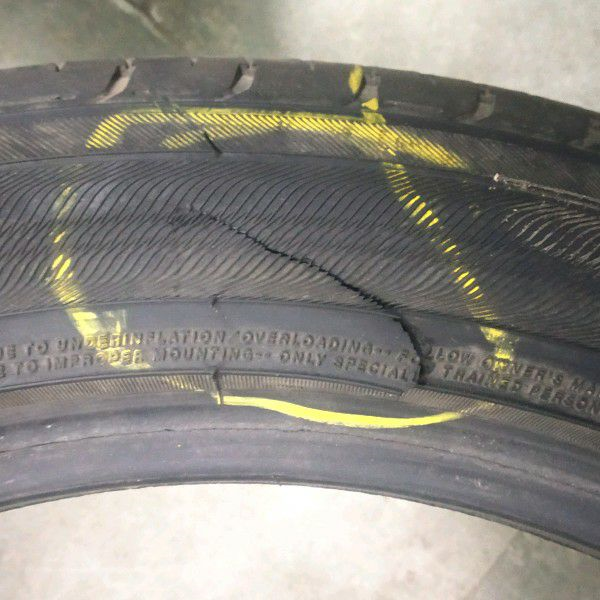cut: (196, 210, 430, 391)
